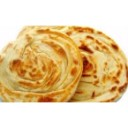parota: (30, 24, 128, 103), (1, 29, 80, 102)
